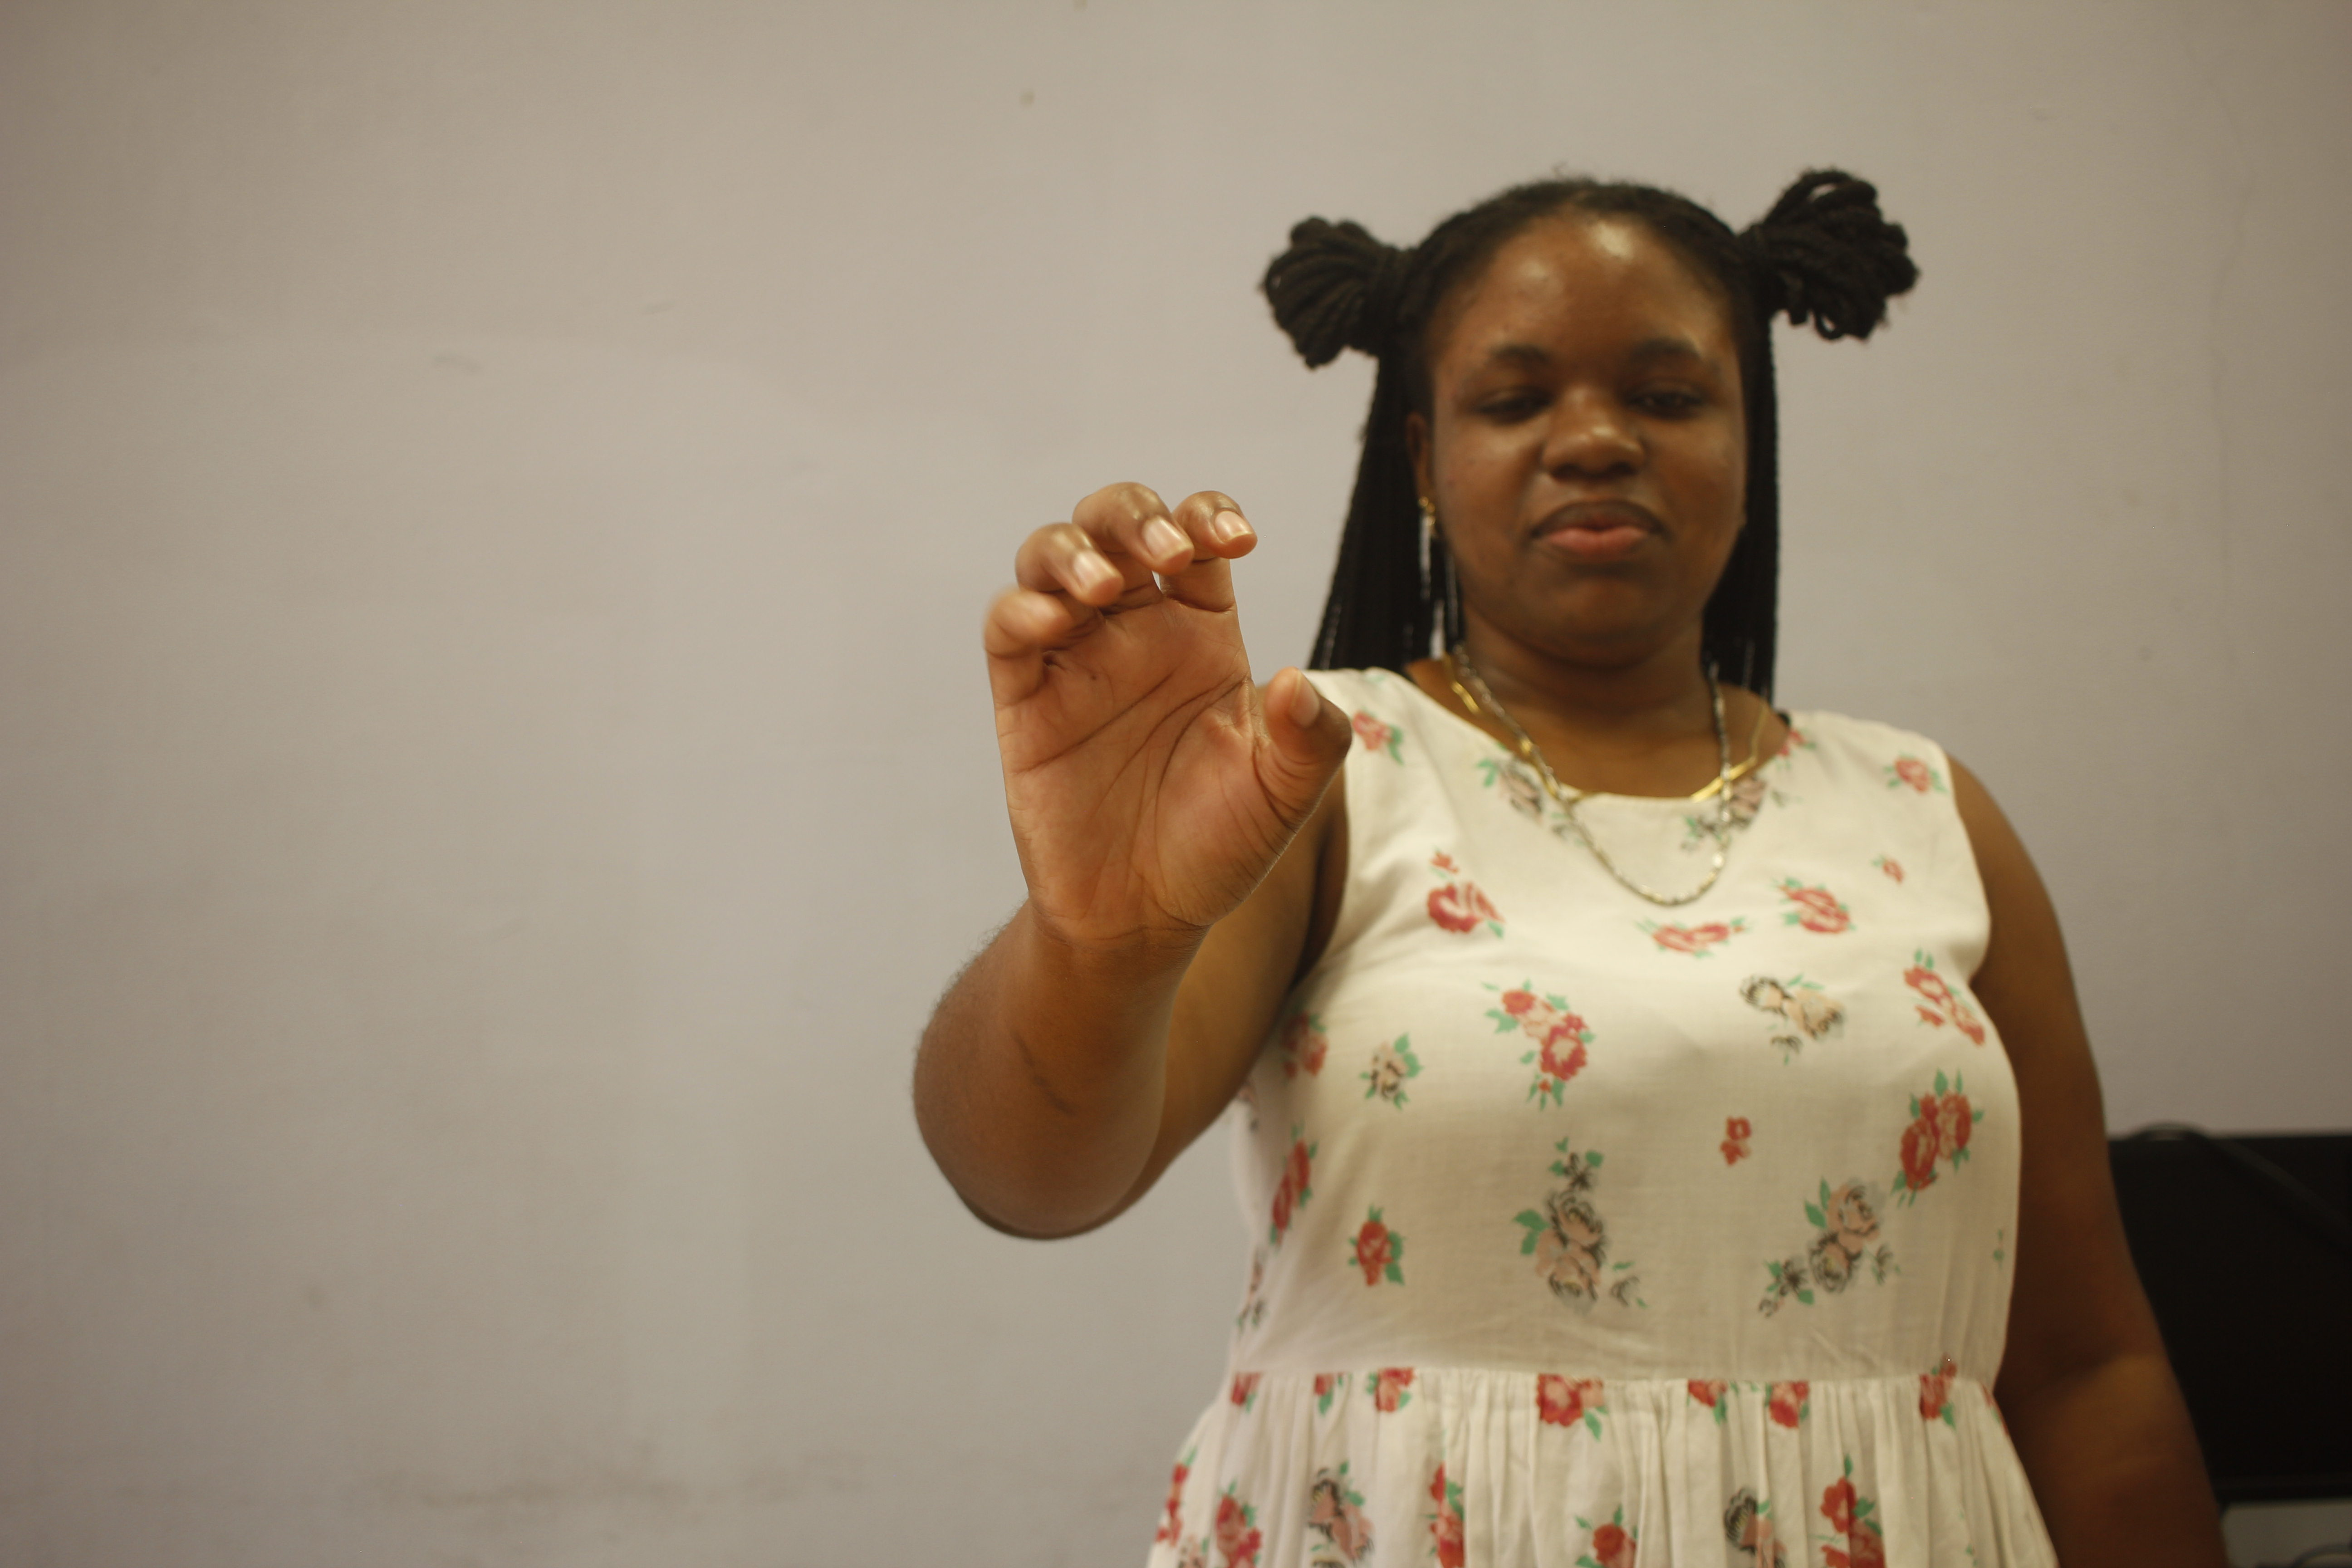E: (959, 473, 1358, 933)
